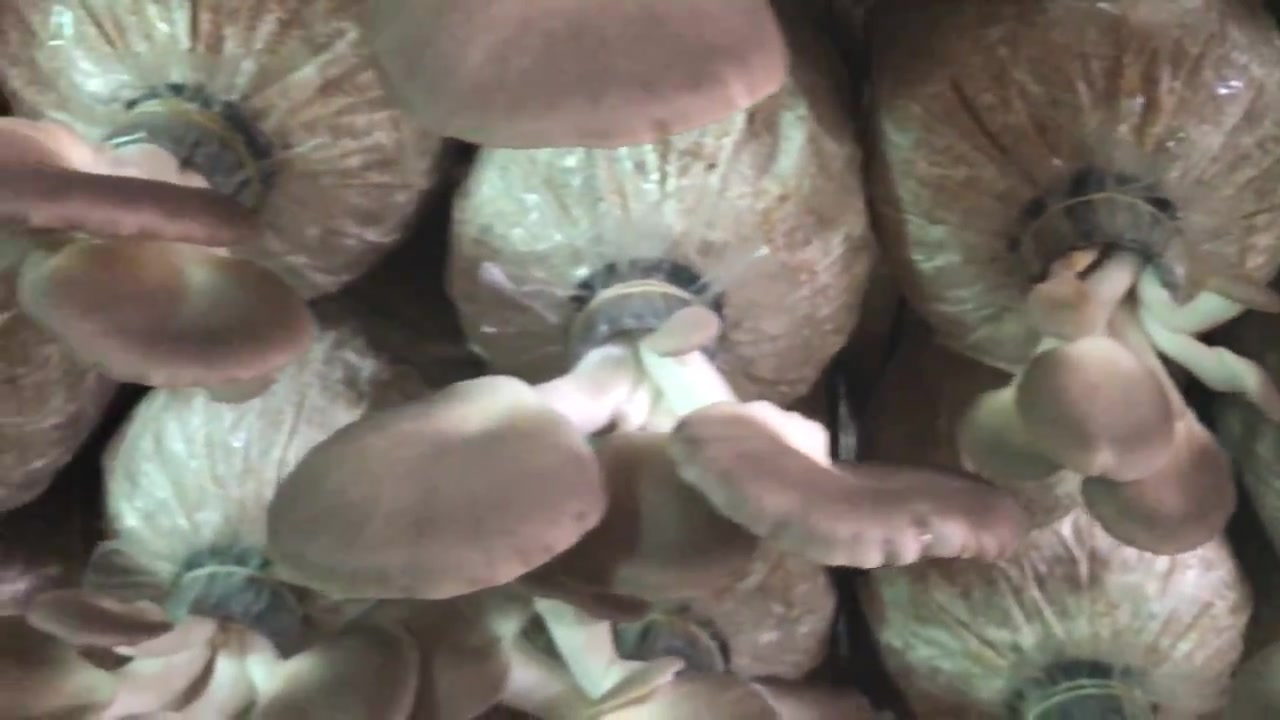nam: (261, 259, 1032, 605), (955, 173, 1280, 558), (1, 82, 323, 392), (1, 514, 423, 719), (368, 2, 798, 152)
